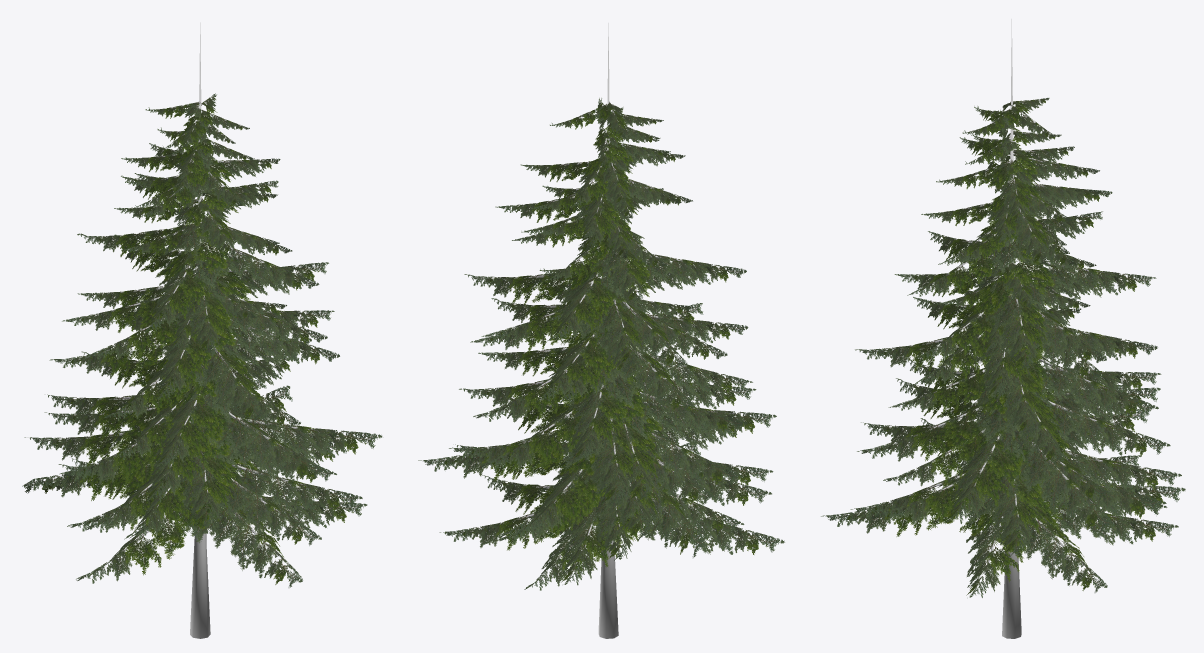
Rendered from Tree2.021.fbx.
3 views of the same model, side by side, from view 1: azimuth 30°, elevation 25°; view 2: azimuth 150°, elevation 25°; view 3: azimuth 270°, elevation 25° (orthographic).
Parts seen in each view (by area): view 1: Tree2.021; view 2: Tree2.021; view 3: Tree2.021.
Boxes of the visible parts, x1,y1,x2,y2 form: Tree2.021: [22, 22, 382, 638]; Tree2.021: [418, 23, 784, 638]; Tree2.021: [821, 19, 1185, 638].
Size of the model in its own units: 1.68 by 3.22 by 1.75.
